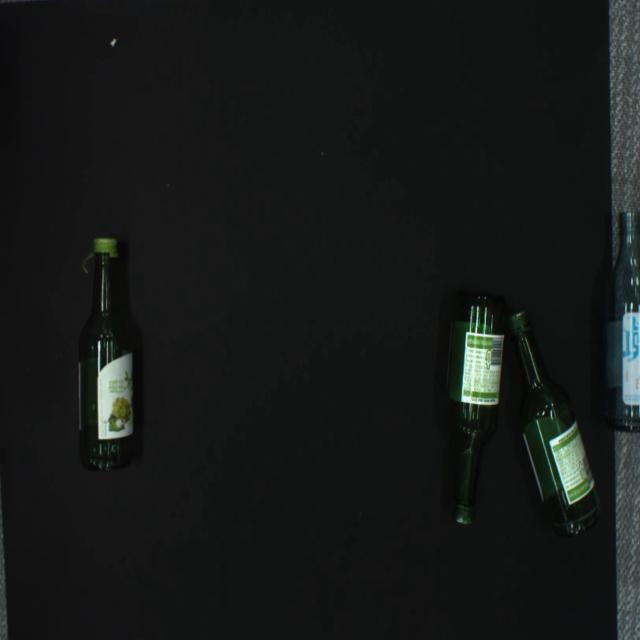soju-bottle: (507, 308, 602, 537), (444, 293, 506, 525), (78, 238, 134, 471), (602, 210, 640, 432)
